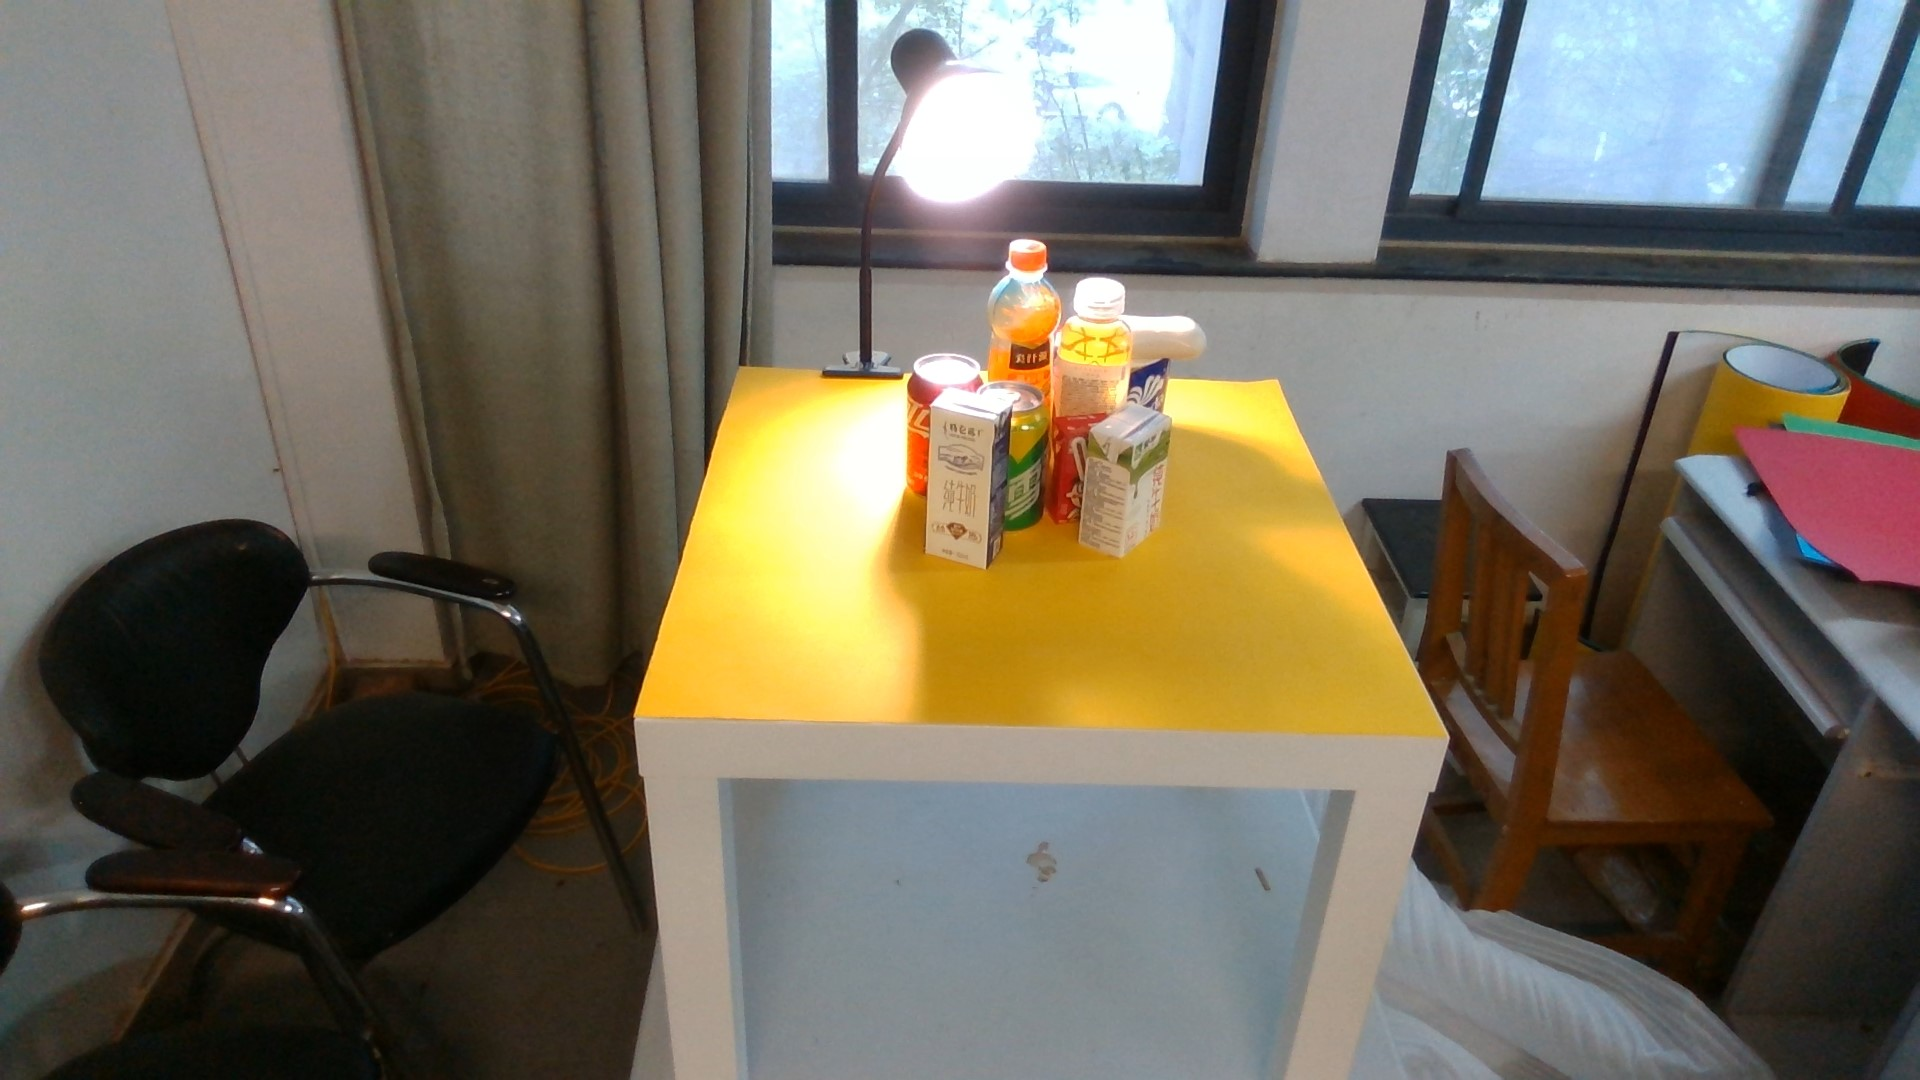BB003: (1131, 309, 1208, 359)
BB009: (1079, 398, 1168, 562)
BB010: (922, 384, 1007, 568)
BB012: (1048, 415, 1084, 527)
CA002: (1130, 363, 1170, 402)
ZC001: (1007, 380, 1050, 531)
ZC002: (905, 356, 930, 495)
ZC006: (988, 237, 1058, 382)
ZC012: (1054, 274, 1133, 409)
